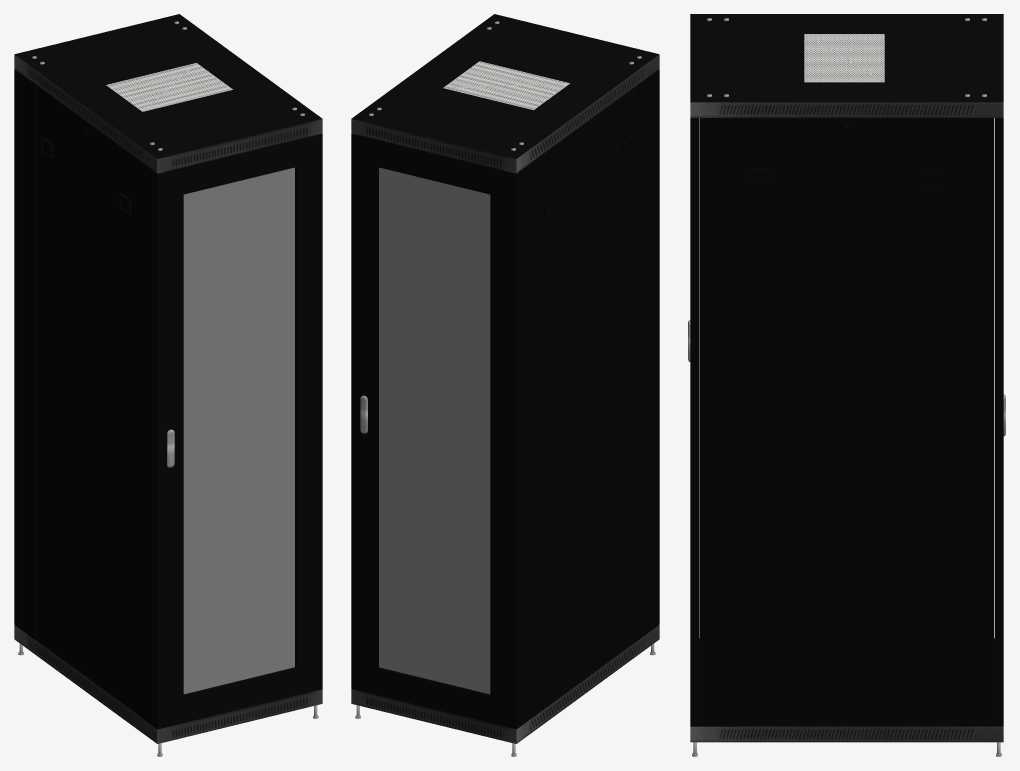
The model's file is RKBB40.fbx.
3 renders of one model, left to right at view 1: azimuth 30°, elevation 25°; view 2: azimuth 150°, elevation 25°; view 3: azimuth 270°, elevation 25°, orthographic. The views are drawn at different scales.
Parts seen in each view (by area): view 1: frontdoor, RKBB40, Box116, backdoor; view 2: backdoor, RKBB40, Box116, frontdoor; view 3: RKBB40, Box116, backdoor, frontdoor.
Part boxes in pixels (x1,y1,x2,y2): frontdoor: (153,133,322,728); RKBB40: (36,85,137,713); Box116: (14,14,322,756); backdoor: (14,69,18,627); backdoor: (351,133,520,728); RKBB40: (537,84,638,712); Box116: (351,14,659,756); frontdoor: (655,69,659,626); RKBB40: (734,118,958,725); Box116: (690,14,1003,756); backdoor: (995,118,1005,725); frontdoor: (688,118,698,725).
Size of the model in its own units: 610 by 2083 by 913.
Materials: 6 (4 with a texture image).
